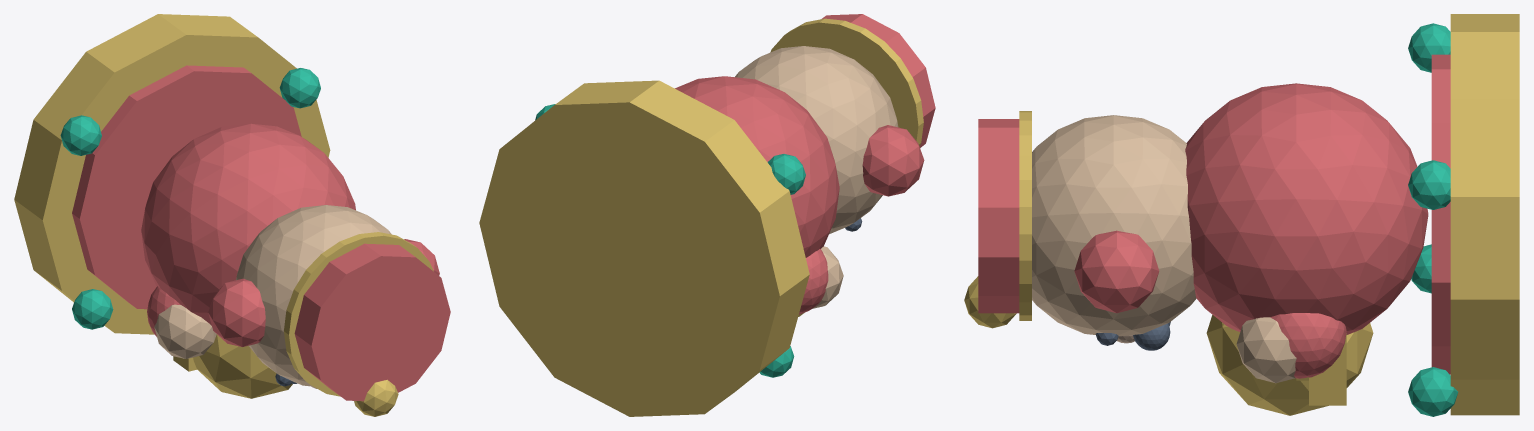
The model's file is than_tai_lod1.glb.
3 renders of one model, left to right at view 1: azimuth 30°, elevation 25°; view 2: azimuth 150°, elevation 25°; view 3: azimuth 270°, elevation 25°, orthographic. The views are drawn at different scales.
Visible parts, largest first — view 1: pedestal_0, robe_2, pedestal_trim_1, hat_10, face_3, ingot_14, detail_hat_rim_0, ear_ornament_4, hands_12, clover_18, clover_16, clover_17 (+2 smaller); view 2: pedestal_0, face_3, robe_2, detail_hat_rim_0, ear_ornament_4, hat_10, detail_sleeve_8, clover_16, hands_12, clover_18; view 3: robe_2, pedestal_0, face_3, hat_10, pedestal_trim_1, ear_ornament_6, ingot_14, detail_sleeve_10, hands_13, detail_hat_rim_0, clover_19, clover_17 (+5 smaller).
Boxes of the visible parts, x1=… form: pedestal_0: x1=14, y1=14, x2=330, y2=334; robe_2: x1=141, y1=123, x2=355, y2=325; pedestal_trim_1: x1=72, y1=65, x2=301, y2=309; hat_10: x1=294, y1=243, x2=450, y2=401; face_3: x1=236, y1=205, x2=391, y2=386; ingot_14: x1=193, y1=334, x2=292, y2=398; detail_hat_rim_0: x1=284, y1=232, x2=433, y2=396; ear_ornament_4: x1=208, y1=278, x2=265, y2=346; hands_12: x1=154, y1=304, x2=216, y2=358; clover_18: x1=72, y1=289, x2=113, y2=329; clover_16: x1=60, y1=115, x2=101, y2=155; clover_17: x1=279, y1=68, x2=320, y2=108; pedestal_0: x1=479, y1=80, x2=809, y2=416; face_3: x1=735, y1=46, x2=898, y2=234; robe_2: x1=675, y1=76, x2=839, y2=257; detail_hat_rim_0: x1=770, y1=18, x2=923, y2=146; ear_ornament_4: x1=862, y1=125, x2=924, y2=196; hat_10: x1=821, y1=14, x2=935, y2=147; detail_sleeve_8: x1=799, y1=249, x2=828, y2=314; clover_16: x1=767, y1=154, x2=805, y2=194; hands_12: x1=812, y1=246, x2=843, y2=308; clover_18: x1=759, y1=346, x2=794, y2=377; robe_2: x1=1185, y1=83, x2=1428, y2=334; pedestal_0: x1=1450, y1=14, x2=1519, y2=415; face_3: x1=1032, y1=115, x2=1196, y2=336; hat_10: x1=978, y1=119, x2=1019, y2=313; pedestal_trim_1: x1=1431, y1=54, x2=1450, y2=374; ear_ornament_6: x1=1074, y1=230, x2=1159, y2=313; ingot_14: x1=1206, y1=315, x2=1373, y2=415; detail_sleeve_10: x1=1270, y1=313, x2=1346, y2=378; hands_13: x1=1236, y1=317, x2=1296, y2=383; detail_hat_rim_0: x1=1019, y1=111, x2=1031, y2=320; clover_19: x1=1408, y1=367, x2=1458, y2=416; clover_17: x1=1408, y1=160, x2=1450, y2=209.
Size of the model in its own units: 2.56 by 2.64 by 3.53.
